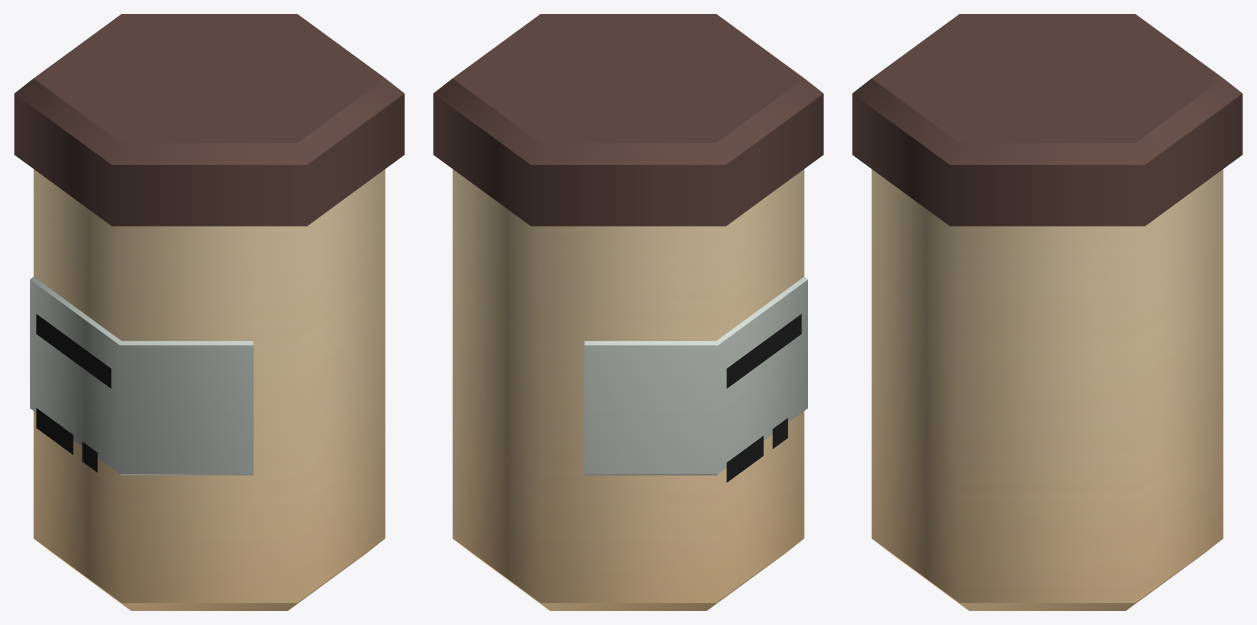
Rendered from Jar_3_A.fbx.
The picture shows the model from 3 angles, left to right: view 1: azimuth 30°, elevation 25°; view 2: azimuth 150°, elevation 25°; view 3: azimuth 270°, elevation 25°; orthographic projection.
Visible parts, largest first — view 1: Jar_3_A; view 2: Jar_3_A; view 3: Jar_3_A.
Boxes of the visible parts, x1,y1,x2,y2 form: Jar_3_A: (14,14,404,610); Jar_3_A: (433,14,823,610); Jar_3_A: (852,14,1242,610).
Size of the model in its own units: 17.99 by 27.9 by 20.77.
